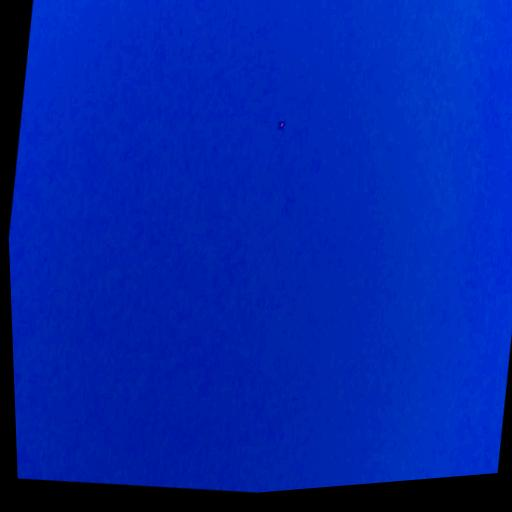drones: (273, 113, 289, 136)
